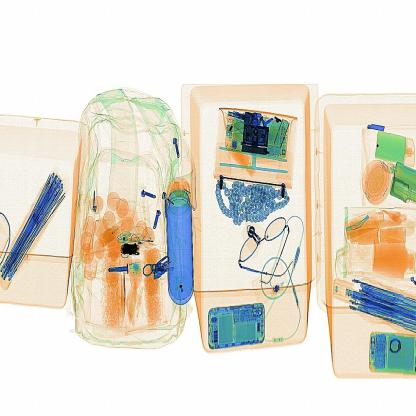scissors: (113, 236, 144, 264)
